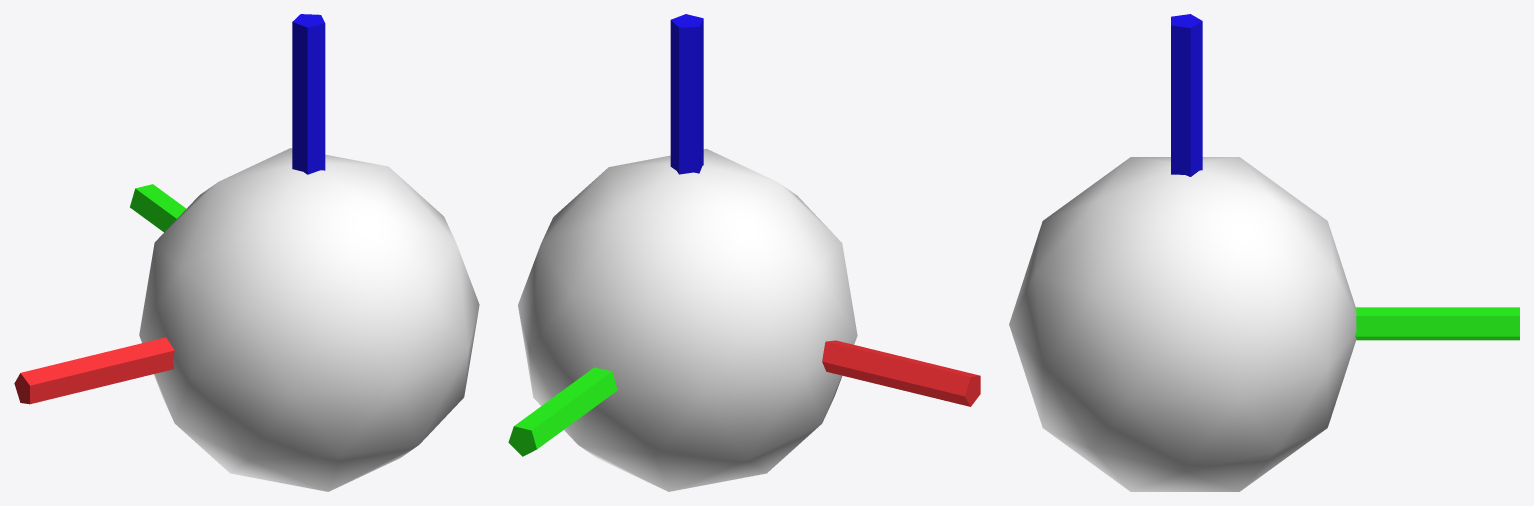
Rendered from GizmoBall.fbx.
3 renders of one model, left to right at view 1: azimuth 30°, elevation 25°; view 2: azimuth 150°, elevation 25°; view 3: azimuth 270°, elevation 25°, orthographic.
Visible parts, largest first — view 1: Icosphere; view 2: Icosphere; view 3: Icosphere.
Part boxes in pixels (x1,y1,x2,y2): Icosphere: [14, 14, 479, 491]; Icosphere: [508, 14, 980, 491]; Icosphere: [1009, 14, 1519, 491].
Bounding box in the file's own units: 285 × 290 × 290.
1 material, 1 textured.
